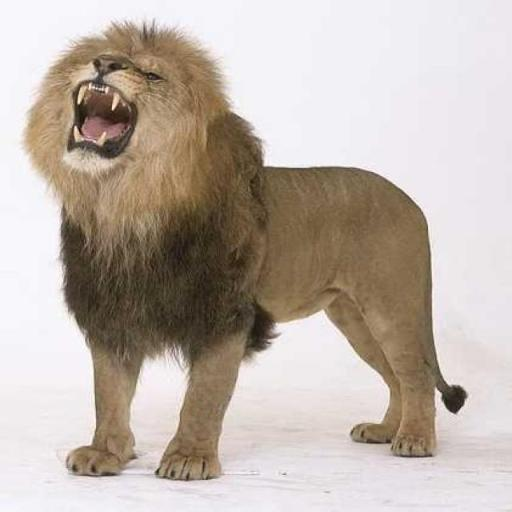Lion: (20, 17, 468, 481)
